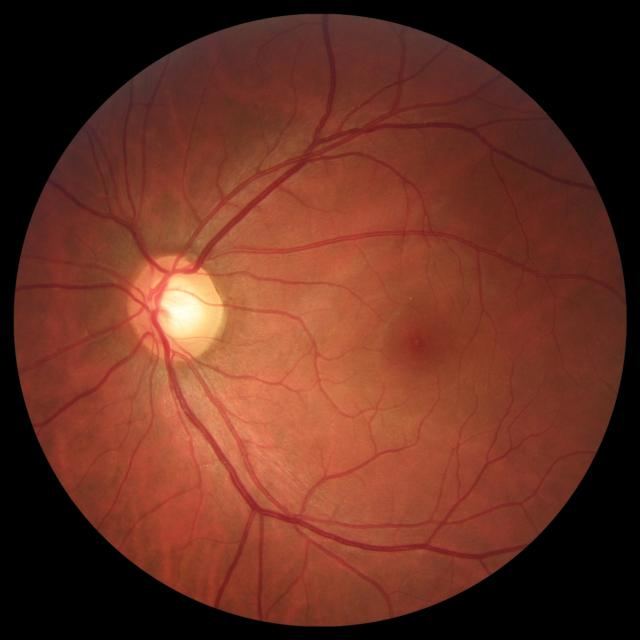OC: (151, 274, 207, 340)
OD: (126, 253, 222, 360)
